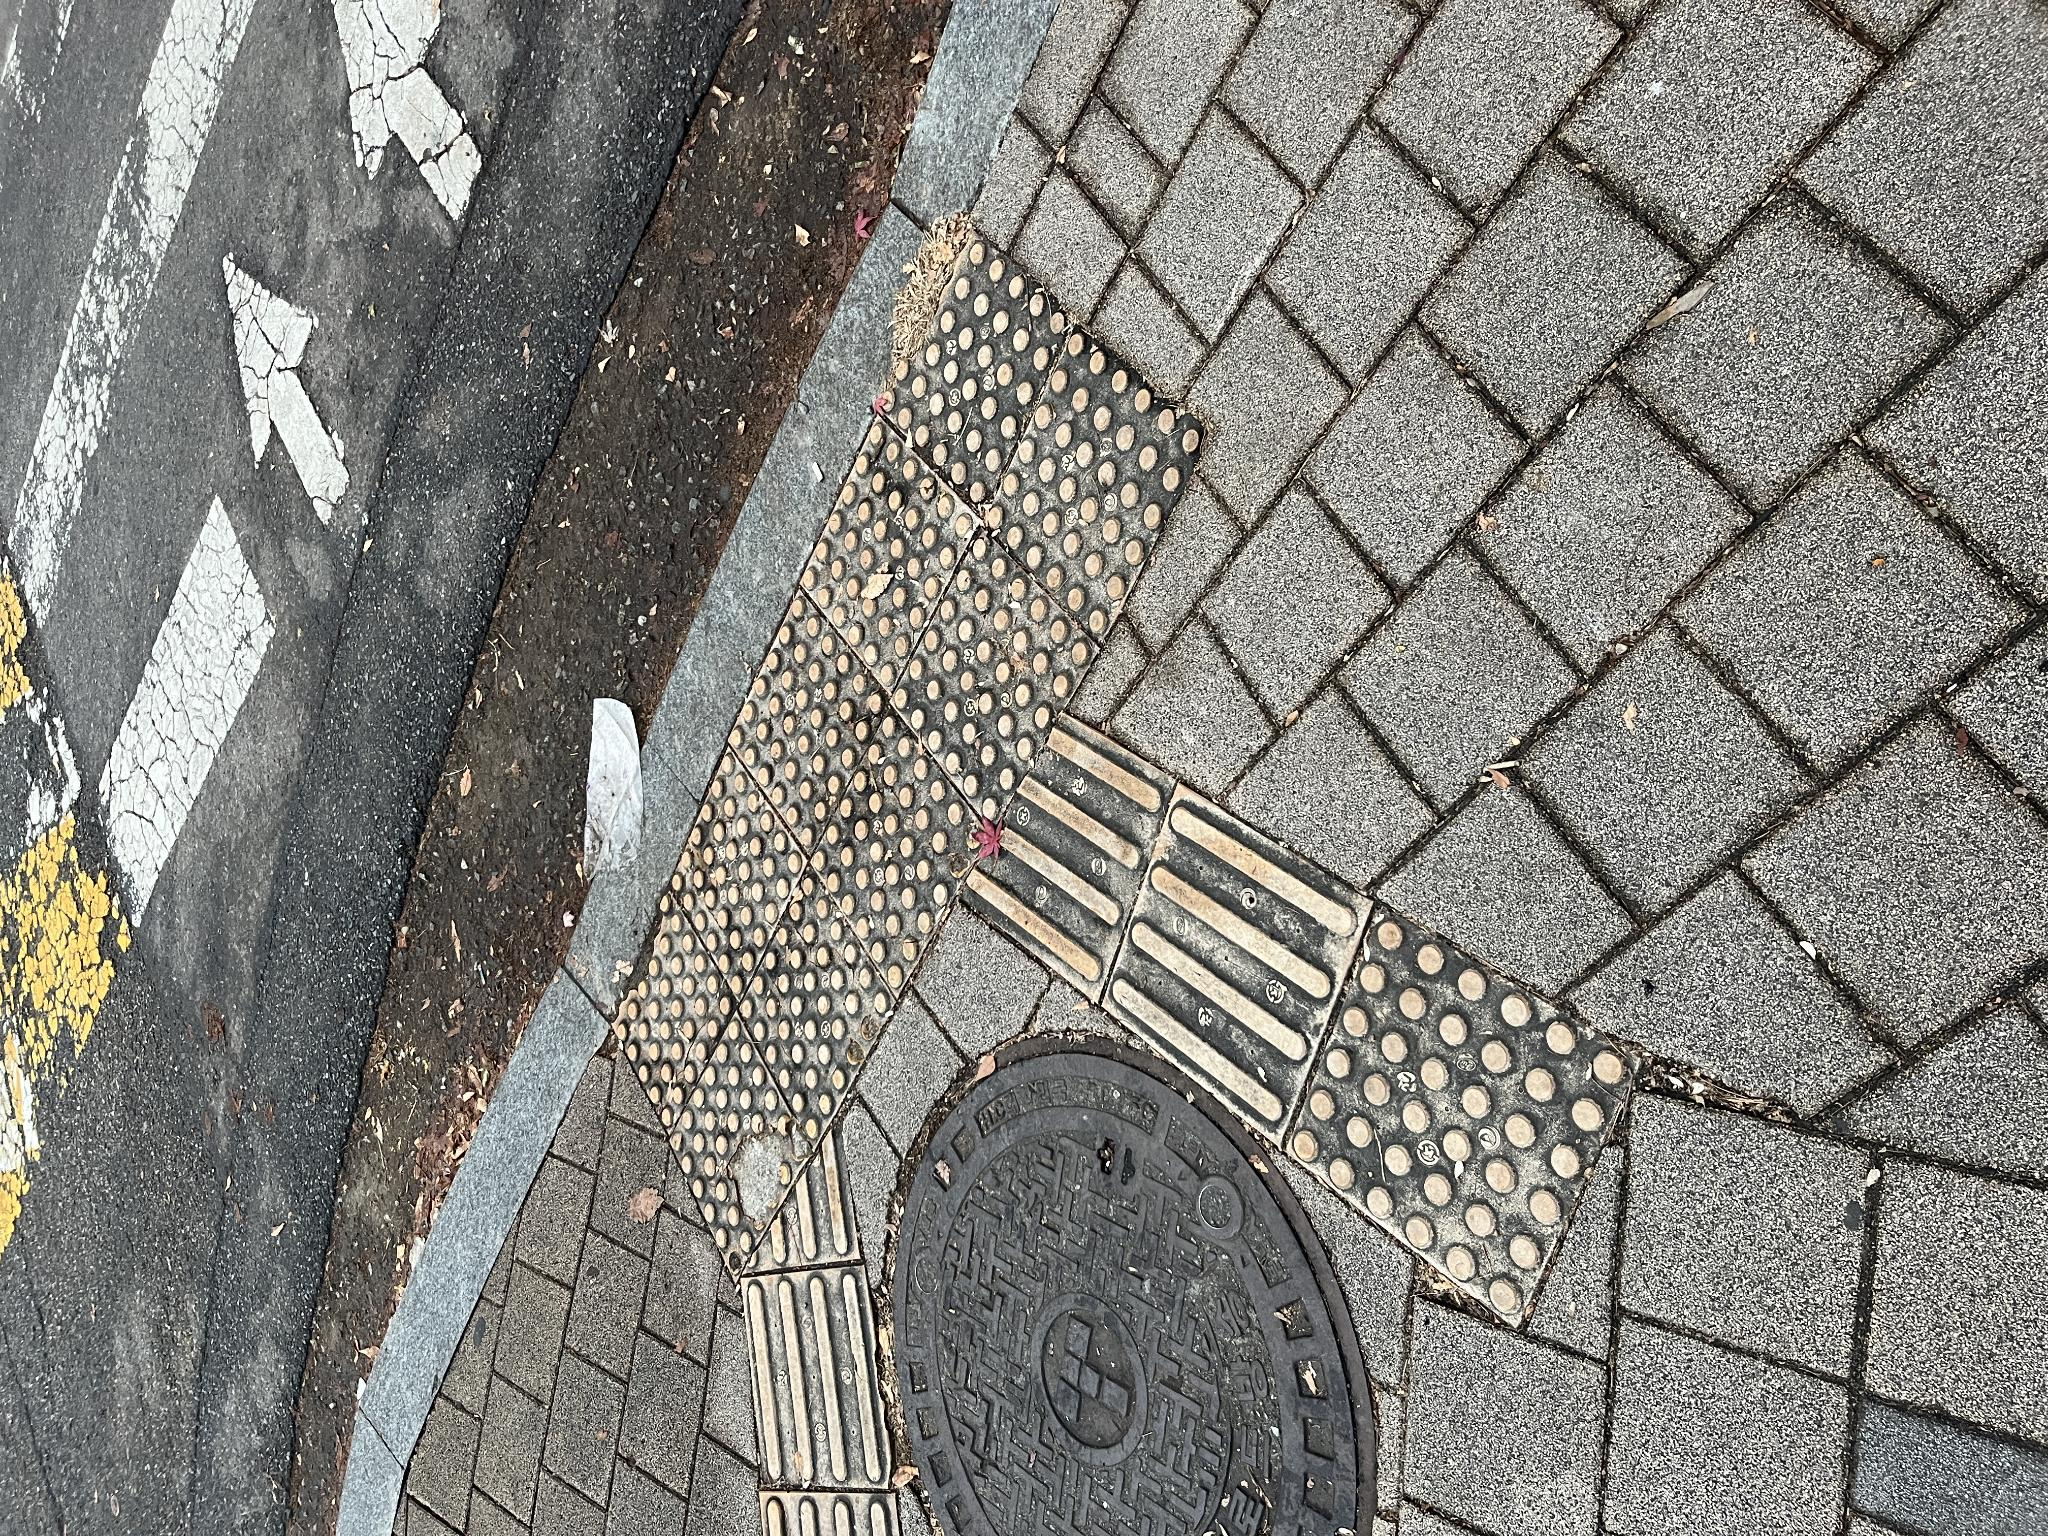Stop block broken: (255, 668, 521, 810)
Stop block normal: (897, 986, 1206, 1204), (706, 891, 1003, 1094)
